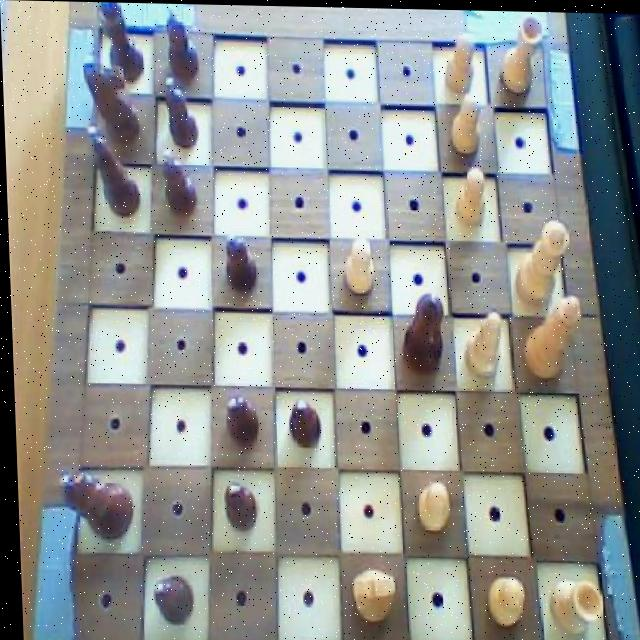bishop: (82, 118, 141, 218)
black-bishop: (51, 465, 133, 545)
black-king: (80, 55, 144, 149)
black-knight: (154, 141, 199, 223), (159, 71, 201, 150), (163, 3, 202, 83), (217, 225, 258, 295), (146, 572, 193, 628), (216, 477, 259, 536), (219, 390, 258, 453), (282, 391, 320, 450)
black-pawn: (394, 284, 449, 378)
black-queen: (96, 2, 149, 87)
black-rook: (455, 300, 505, 382)
white-bishop: (514, 284, 582, 378)
white-king: (341, 560, 397, 630)
white-knight: (437, 24, 481, 98), (334, 229, 380, 298), (478, 567, 524, 632), (448, 160, 491, 229), (446, 88, 486, 159), (407, 475, 450, 531)
white-pawn: (508, 214, 572, 306)
white-queen: (494, 10, 545, 98), (543, 569, 603, 634)
